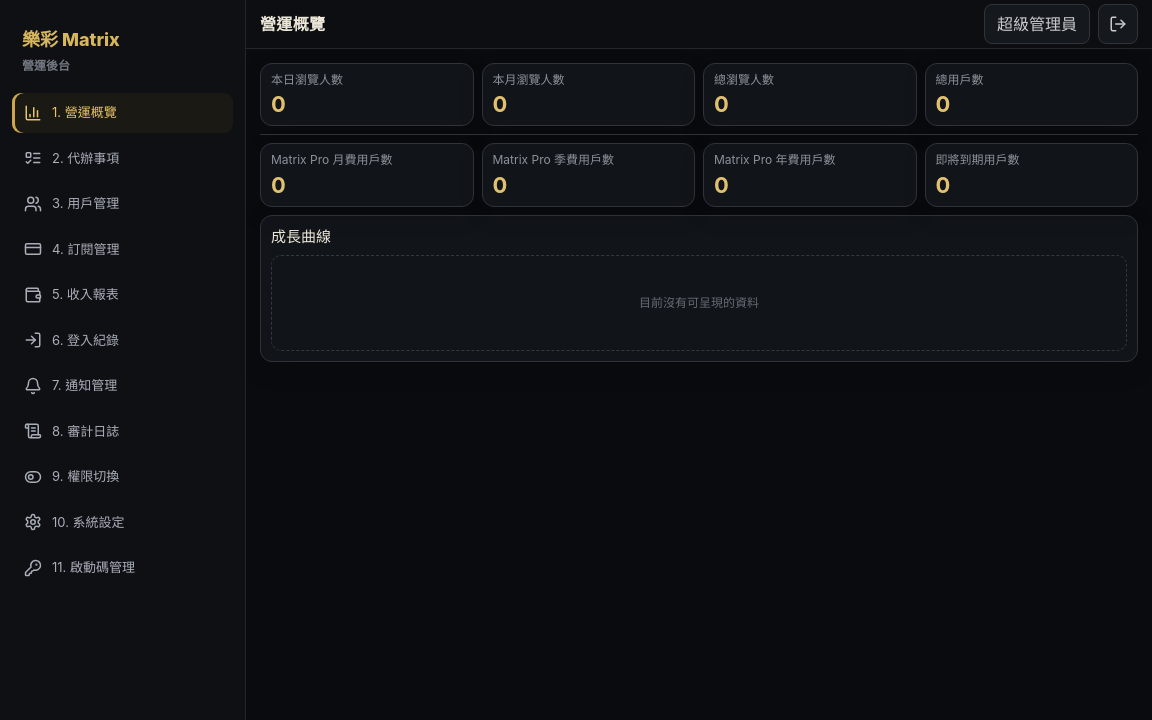
Scenario: administrator operation permission editing › allows an operations admin to read payments but not record reversals
Click the button "4. 訂閱管理" at (122, 249), box [12,230,233,269]
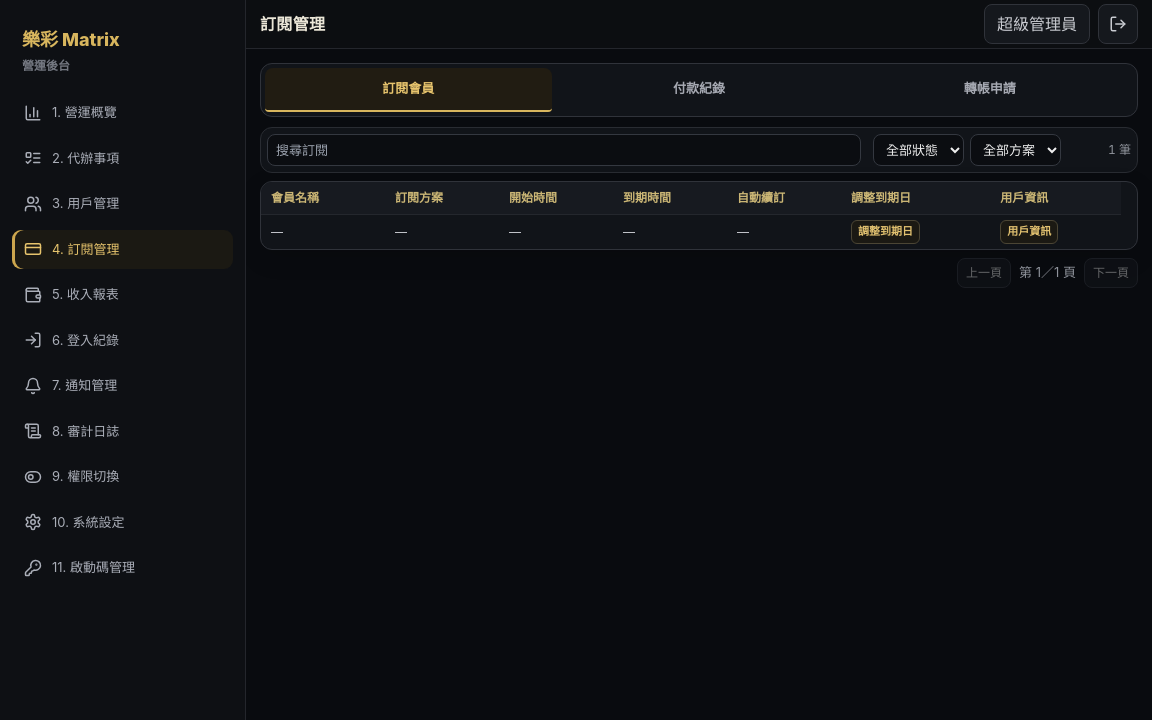
Click the tab "付款紀錄" at (699, 90), box [556,68,842,112]
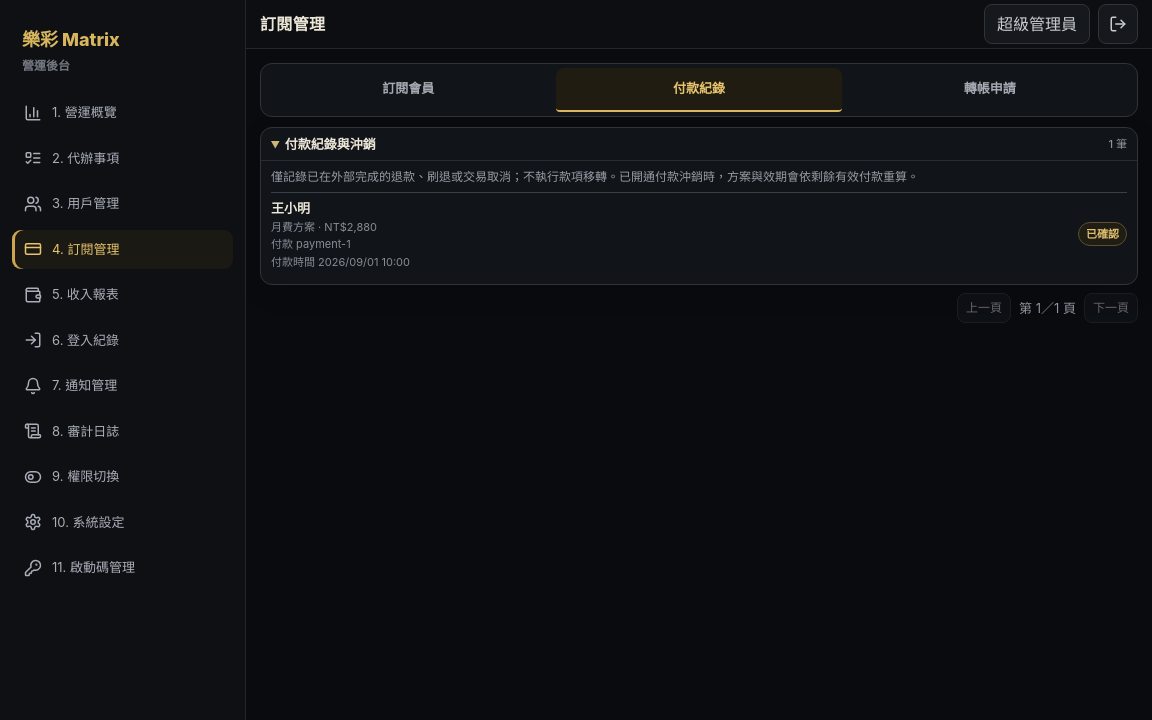
Expected: the text "王小明" is shown, [271,200,310,216]
